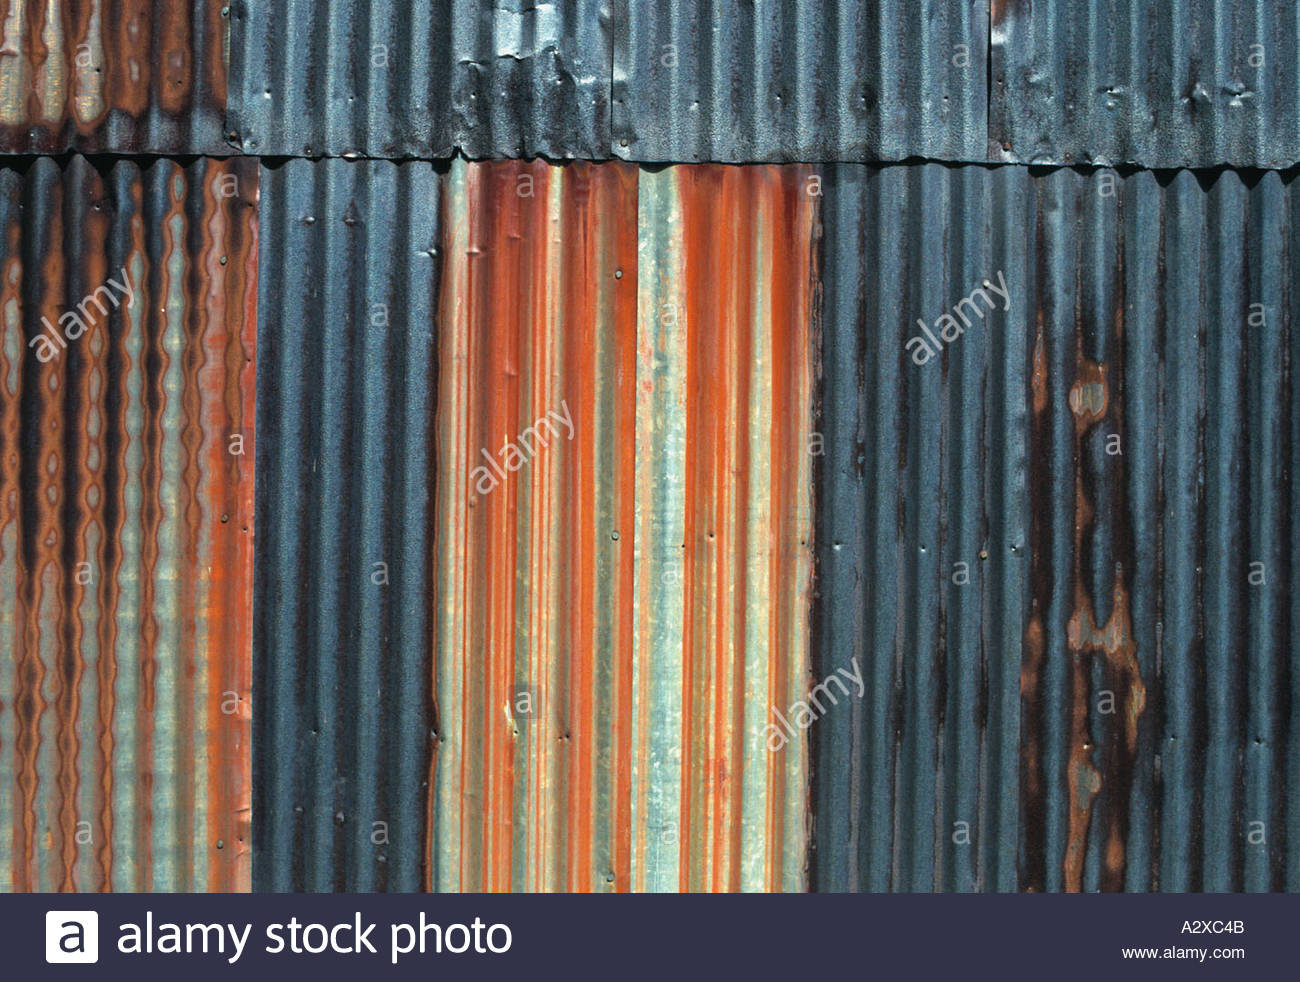rust: (676, 169, 813, 510), (473, 166, 607, 405), (102, 1, 241, 124), (30, 375, 72, 699)
